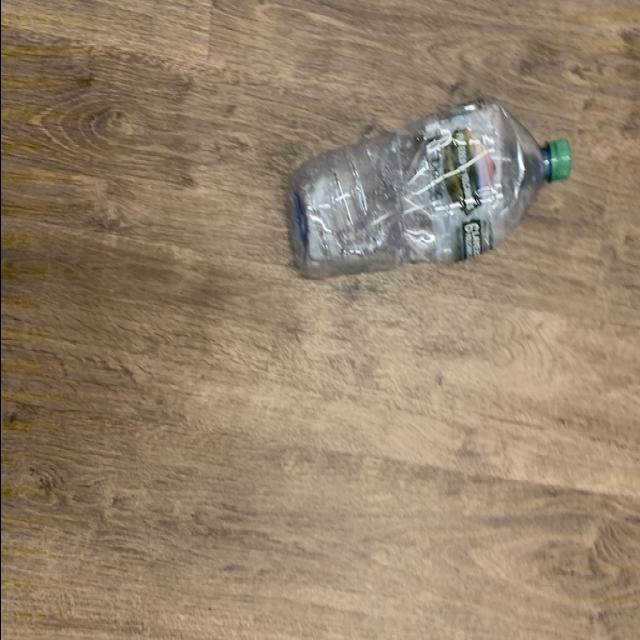PET: (283, 104, 569, 284)
